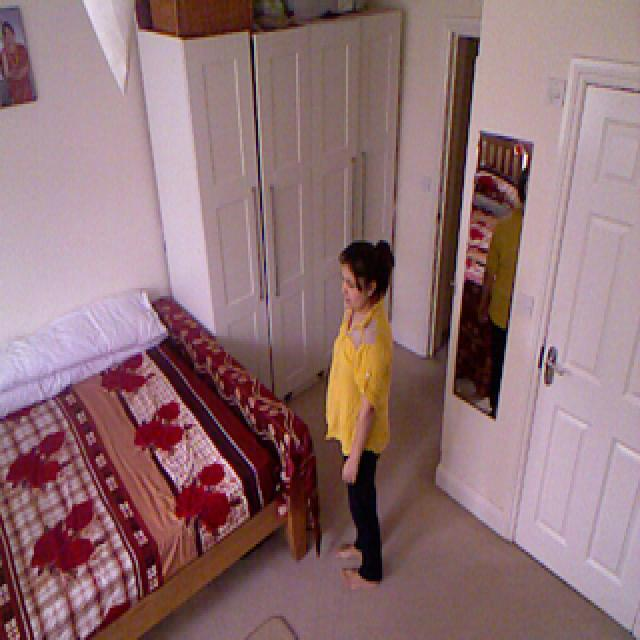standing: (336, 230, 440, 603)
